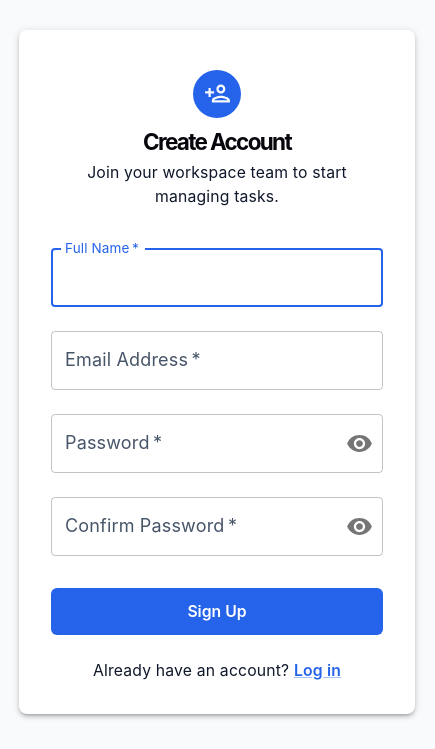
it: RegisterPage Component › validates email format
The image size is (435, 749).
Type "Jane Doe" into the field labelled "Full Name *" at (217, 278), box [51, 248, 383, 307]
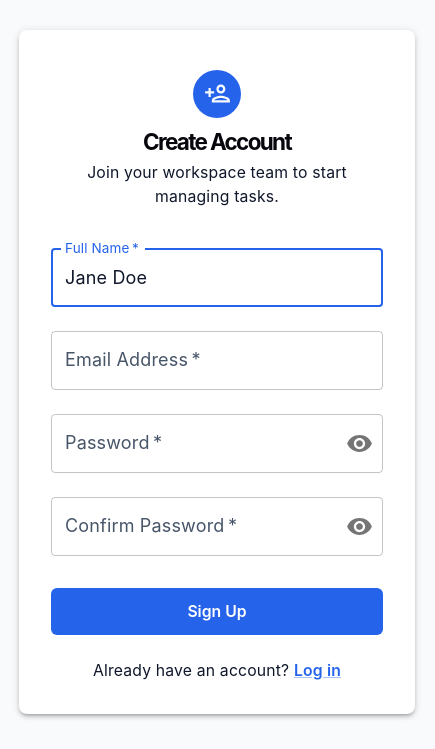
Type "invalidemail" into the field labelled "Email Address *" at (217, 361), box [51, 331, 383, 390]
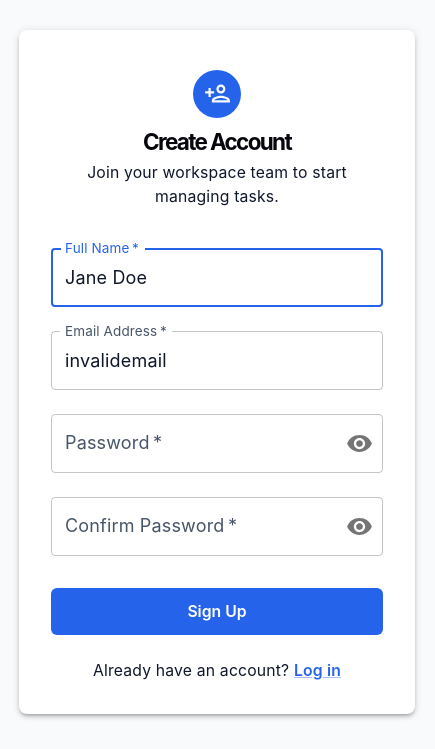
Type "Secret123!" into the password field labelled "Password *" at (190, 444), box [51, 414, 330, 473]
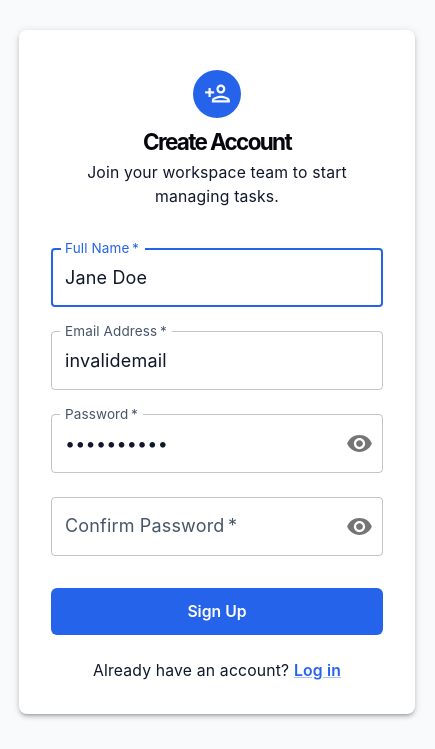
Type "Secret123!" into the password field labelled "Confirm Password *" at (190, 527), box [51, 497, 330, 556]
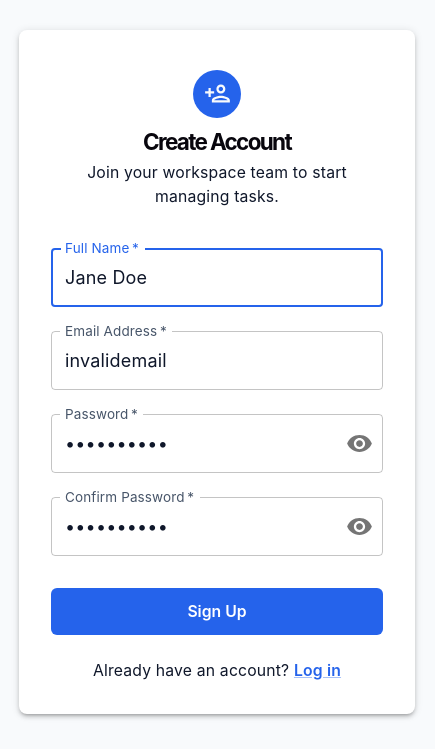
Click the button "Sign Up" at (217, 611), box [51, 588, 383, 635]
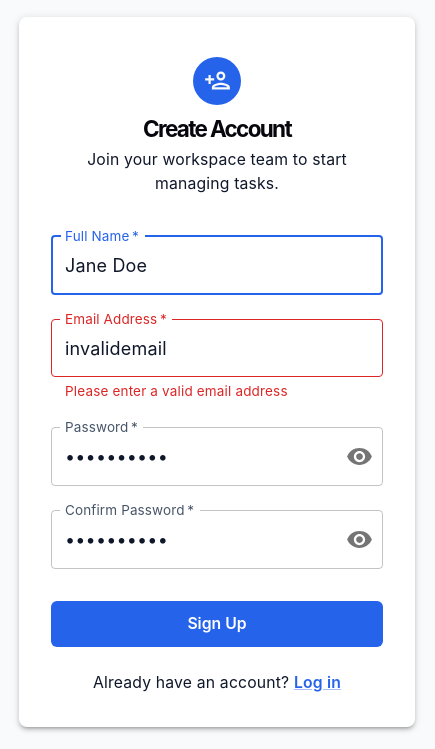
Now the text "Please enter a valid email address" is shown, box [65, 384, 288, 400]
